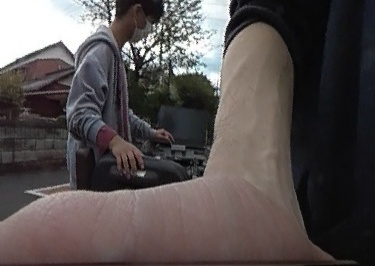person: (67, 0, 172, 191)
